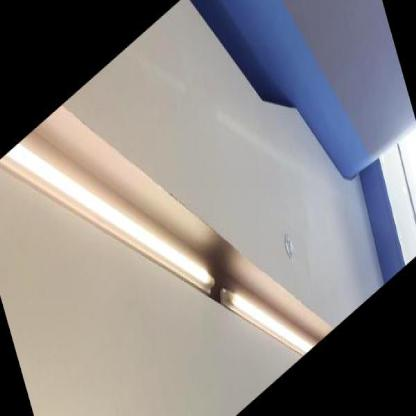light_on: (0, 26, 223, 415), (214, 225, 316, 403)
